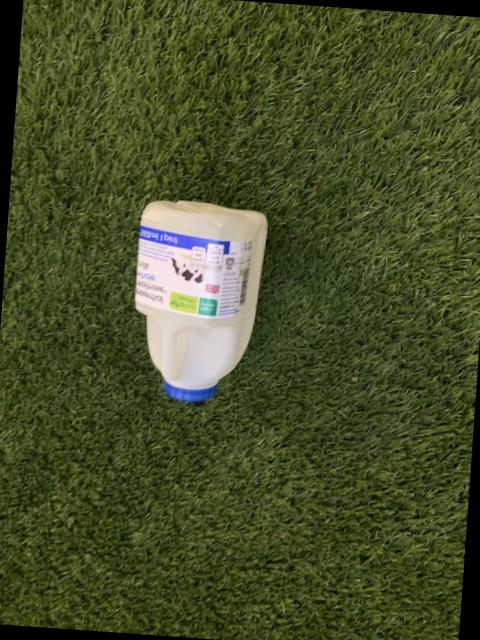plastic: (132, 201, 264, 401)
